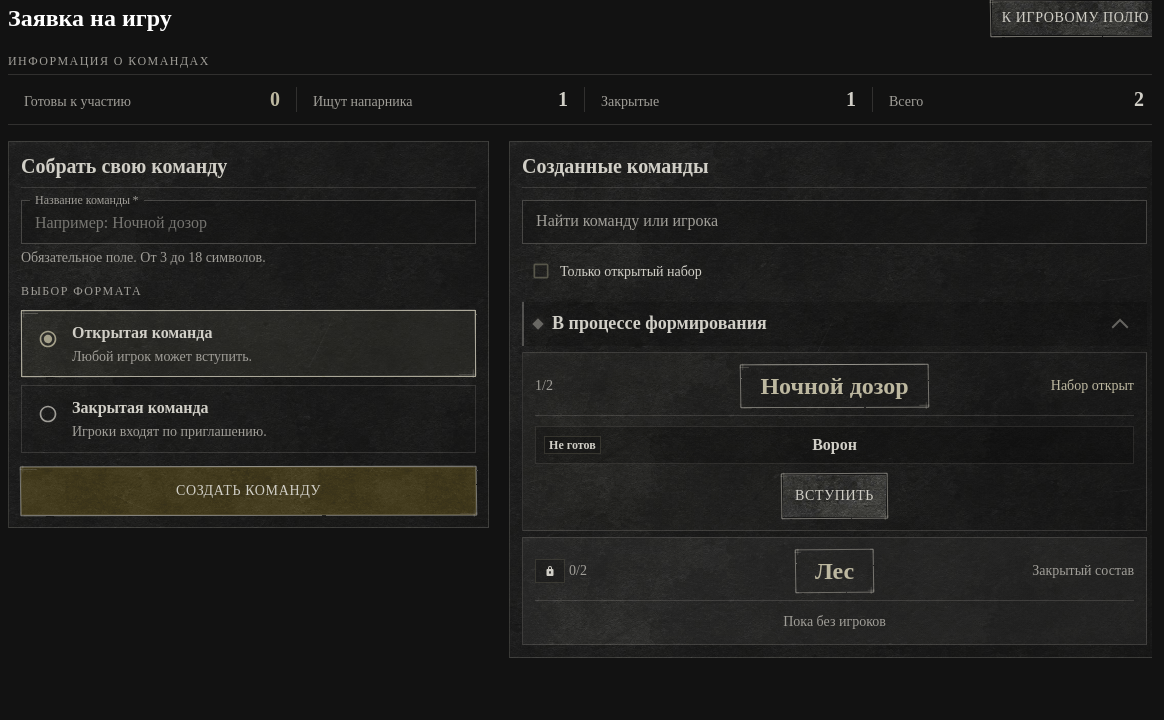
Test case: Application decisions › searches names and logins, combines filters and recovers from no matches
In the search field labelled "Найти команду или игрока": (835, 222) [522,202,1147,242], type "  RAVEN  "
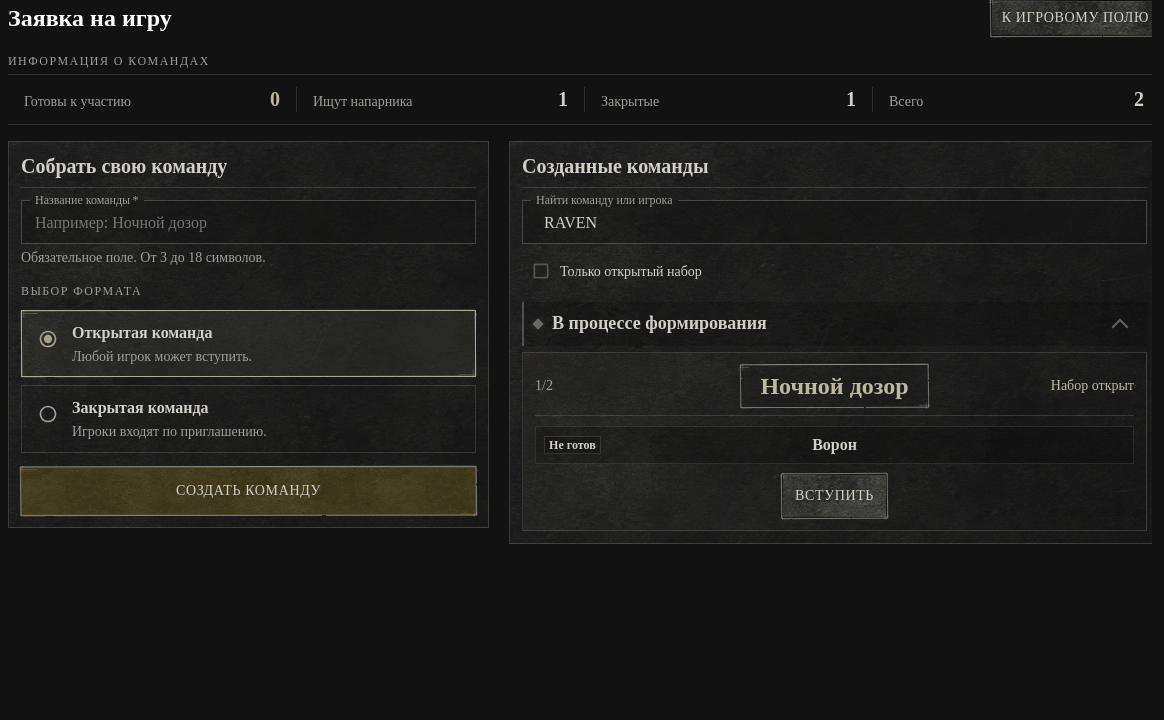
Expected: the element "Ночной дозор" is shown, [522,352,1147,531]
Replace the text in the search field labelled "Найти команду или игрока" with "лес": (835, 222) [522,202,1147,242]
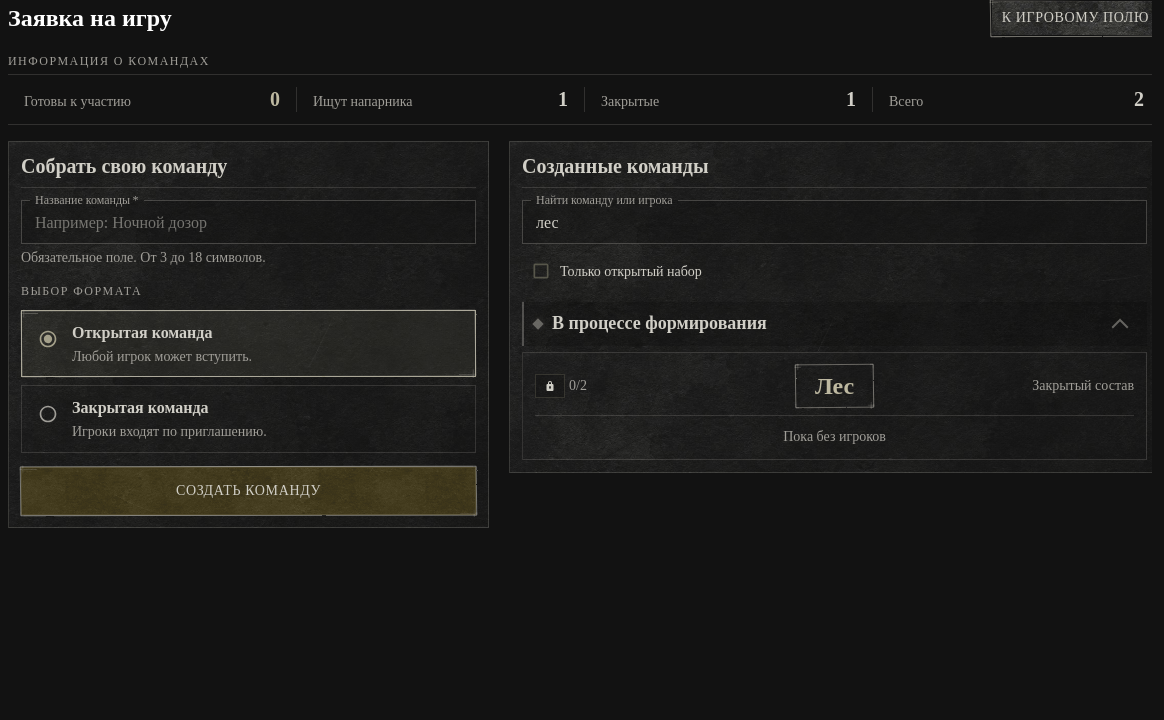
Click the checkbox labelled "Только открытый набор": click(616, 271) [531,261,702,281]
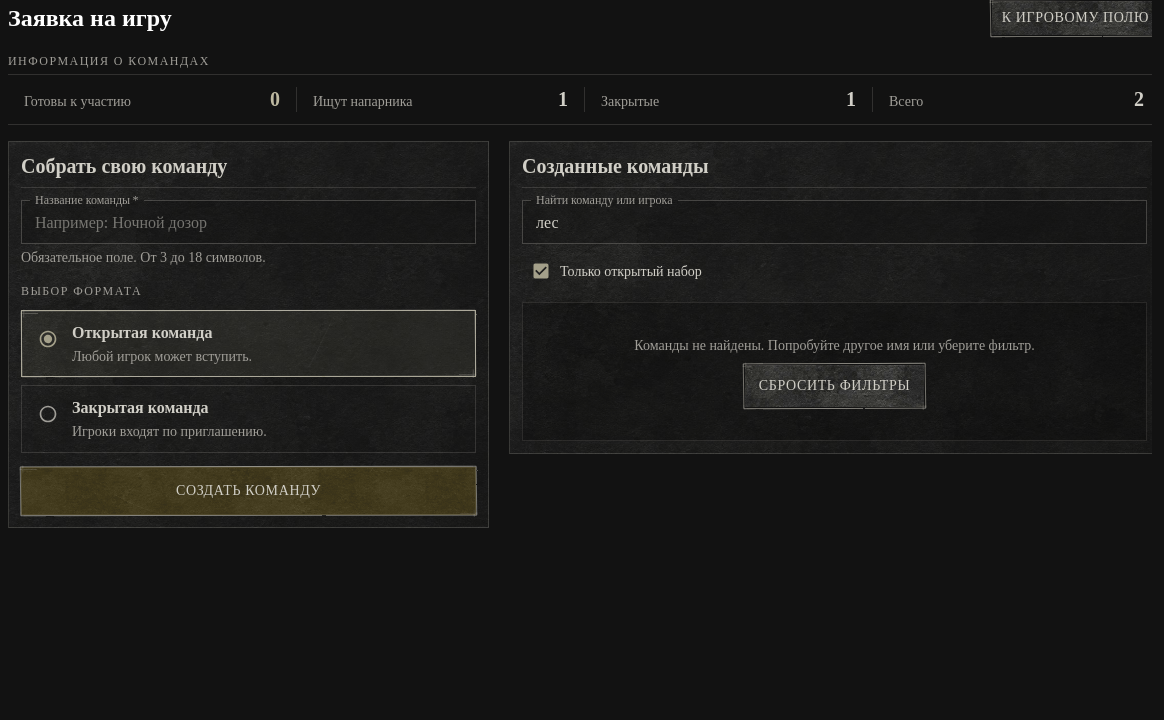
Click the button "Сбросить фильтры": click(834, 386) [744,364,925,408]
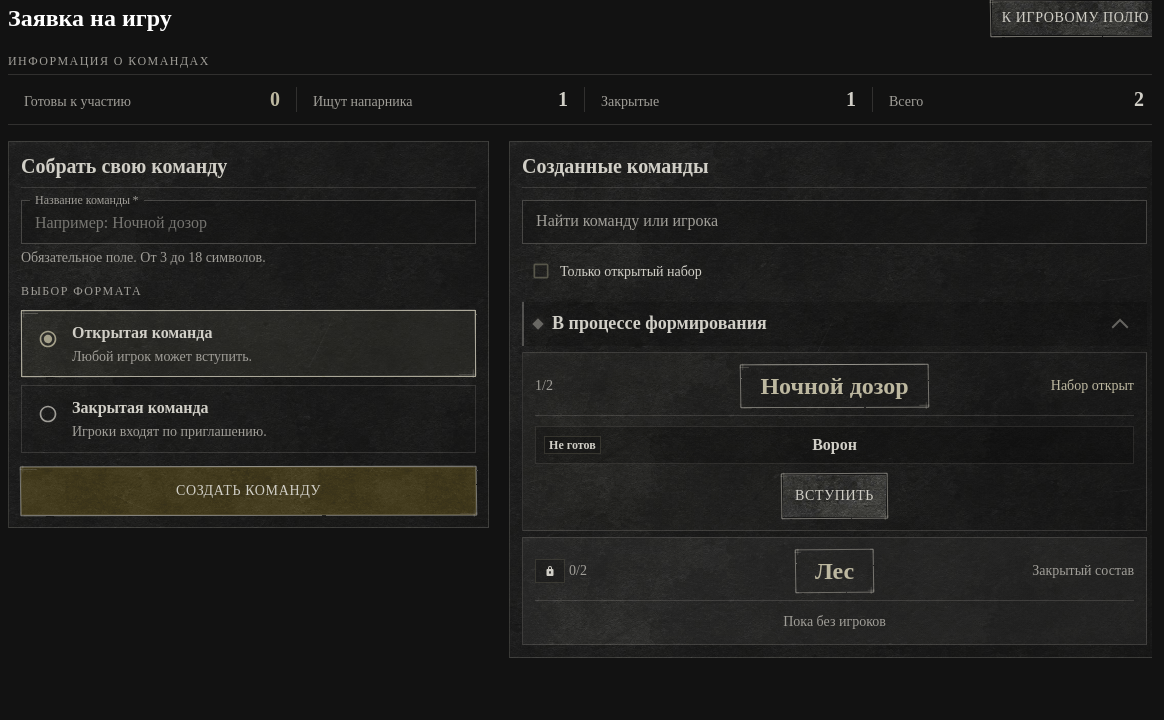
Now the search field labelled "Найти команду или игрока" is empty, box [522,202,1147,242]
